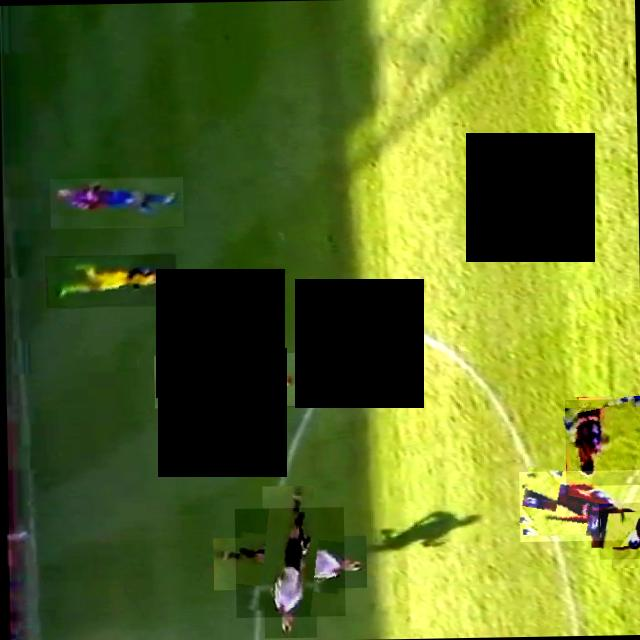referee: (233, 507, 344, 618)
soccer-player: (518, 469, 640, 541), (152, 352, 296, 408), (44, 254, 176, 308), (49, 176, 182, 228), (563, 398, 640, 485), (597, 502, 640, 559)
